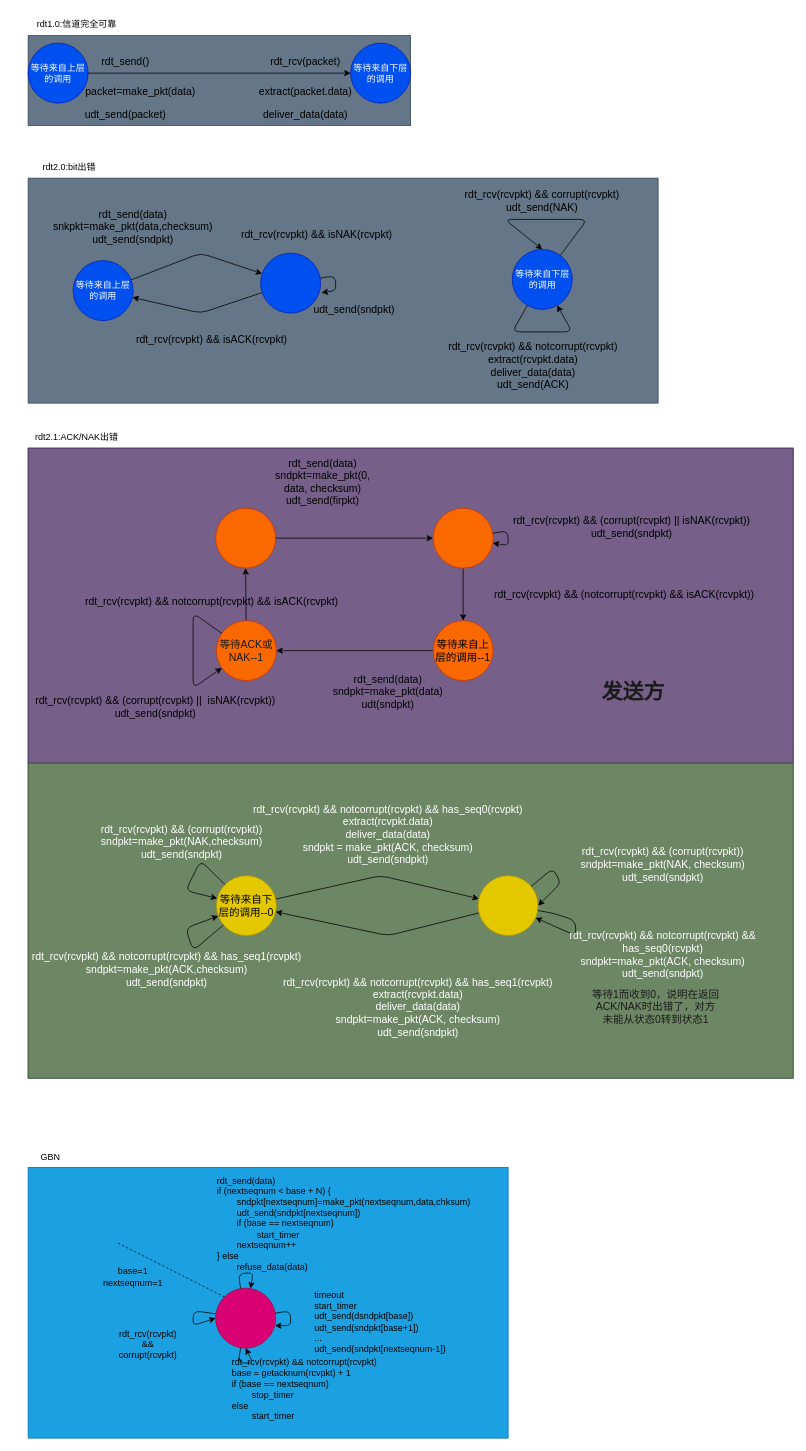
Image size: 806x1451. Some labels were removed from this diagram. The shapes that lost their labels are listed below. From the top down, each one's centre as x and y in pixels, then its label:
At point (290, 282): "等待ACK或NACK".
At point (245, 537): "等待来自上层的调用--0".
At point (462, 537): "等待ACK或NAK--0".
At point (507, 905): "等待来自下层的调用--1".
